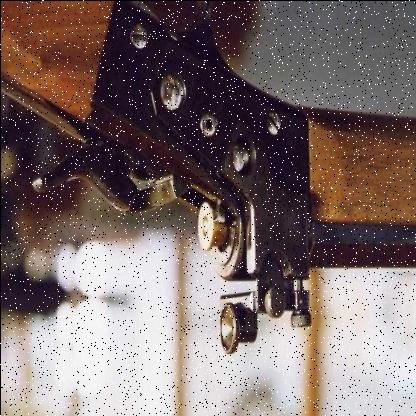rifle: (10, 6, 416, 367)
